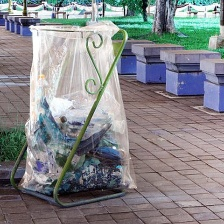bottle: (33, 73, 52, 118)
plastic_bag: (15, 17, 139, 196)
